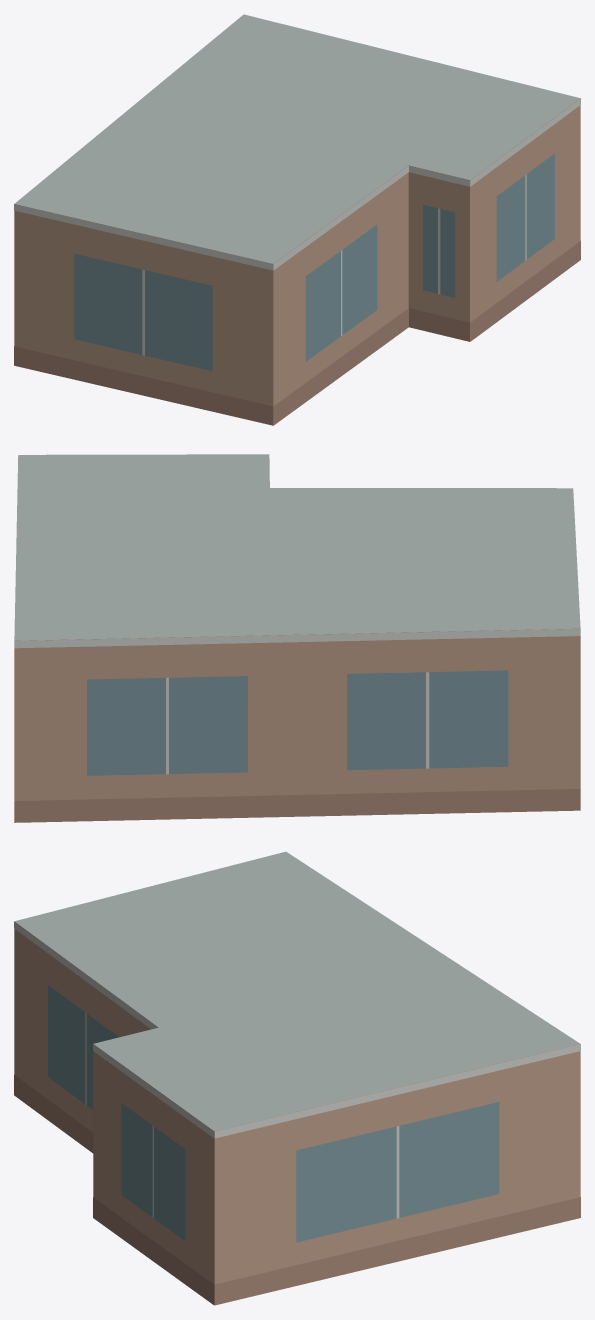
The model's file is survey-upis-32627040.glb.
3 views of the same model, one above another, from view 1: azimuth 30°, elevation 25°; view 2: azimuth 150°, elevation 25°; view 3: azimuth 270°, elevation 25° (orthographic). The views are drawn at different scales.
Parts seen in each view (by area): view 1: survey-upis-32627040.tmp; view 2: survey-upis-32627040.tmp; view 3: survey-upis-32627040.tmp.
Part boxes in pixels (left/top/right/bottom): survey-upis-32627040.tmp: left=14, top=14, right=580, bottom=425; survey-upis-32627040.tmp: left=14, top=454, right=580, bottom=822; survey-upis-32627040.tmp: left=14, top=851, right=580, bottom=1305.
Size of the model in its own units: 10.54 by 3.05 by 9.01.
